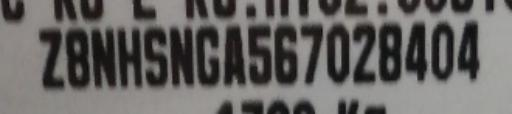letter: (244, 22, 274, 86), (192, 22, 222, 86), (114, 25, 144, 89), (324, 21, 354, 83), (140, 25, 170, 87), (402, 18, 430, 82), (428, 18, 456, 82), (36, 25, 64, 89), (90, 26, 118, 90), (64, 27, 92, 91), (298, 22, 326, 84), (350, 23, 378, 85), (168, 24, 196, 86), (222, 21, 248, 87), (272, 23, 300, 84), (377, 20, 403, 85), (456, 18, 482, 82)
